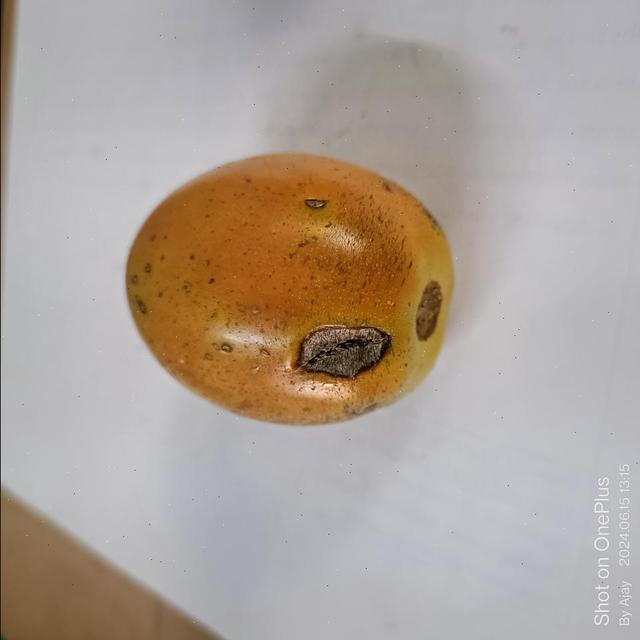Bacterial Spot Fruit: (191, 204, 263, 270)
